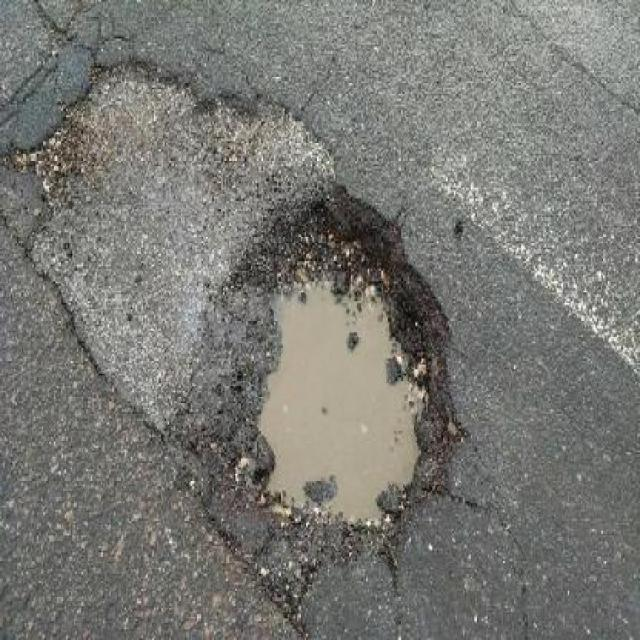Pothole: (225, 175, 462, 563)
